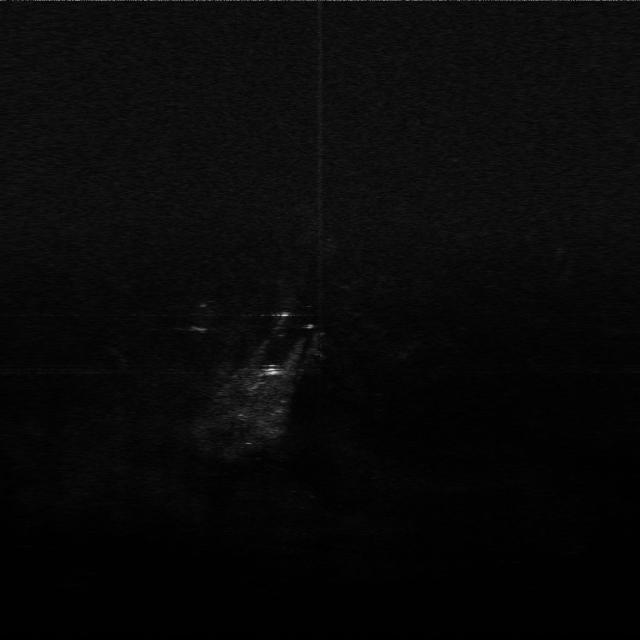rov: (258, 364, 292, 382)
